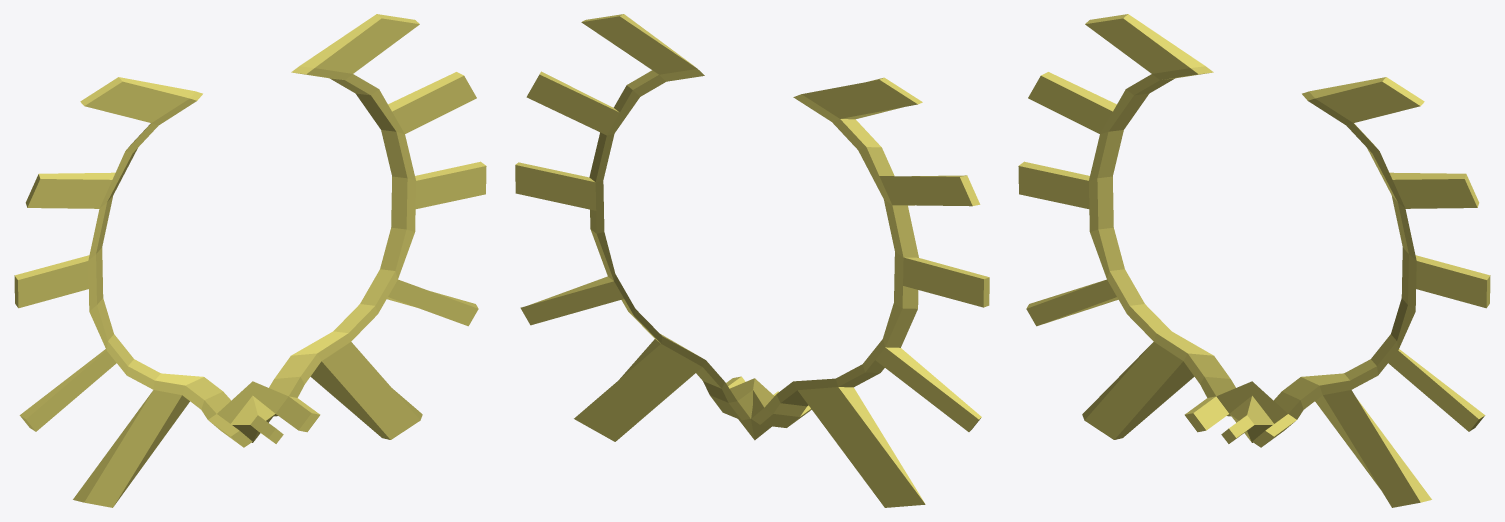
Rendered from SentinelWings.fbx.
The picture shows the model from 3 angles, left to right: view 1: azimuth 30°, elevation 25°; view 2: azimuth 150°, elevation 25°; view 3: azimuth 330°, elevation 25°; orthographic projection.
Parts seen in each view (by area): view 1: SentinelWings; view 2: SentinelWings; view 3: SentinelWings.
Part boxes in pixels (left/top/right/bottom): SentinelWings: left=14, top=14, right=486, bottom=507; SentinelWings: left=515, top=14, right=989, bottom=507; SentinelWings: left=1018, top=14, right=1490, bottom=507.
Bounding box in the file's own units: 1.45 × 1.26 × 0.1559.
